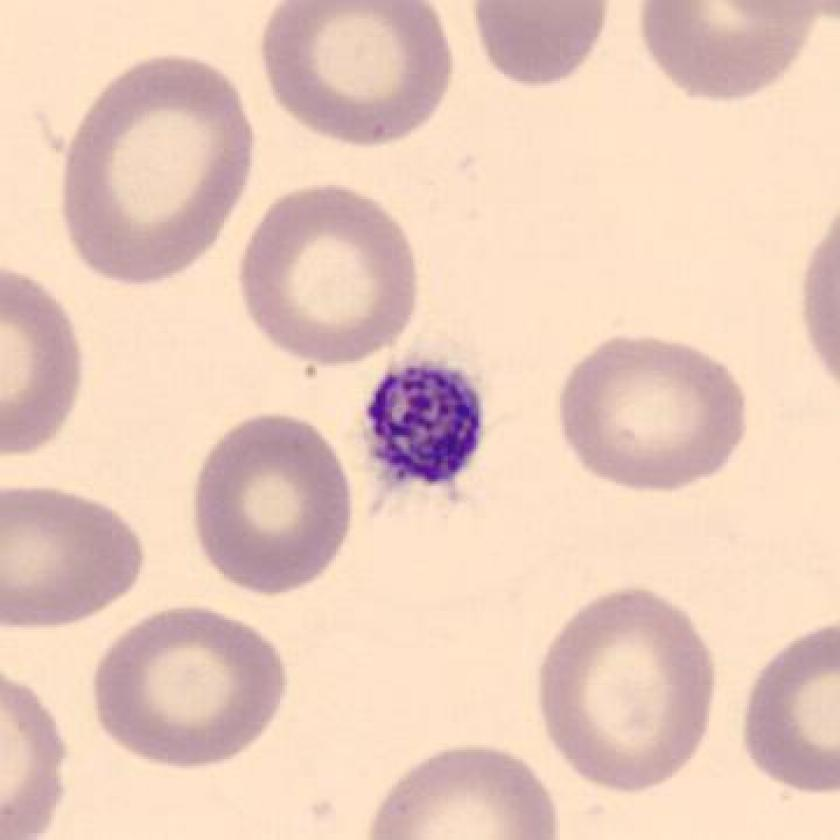platelets: (349, 346, 496, 505)
